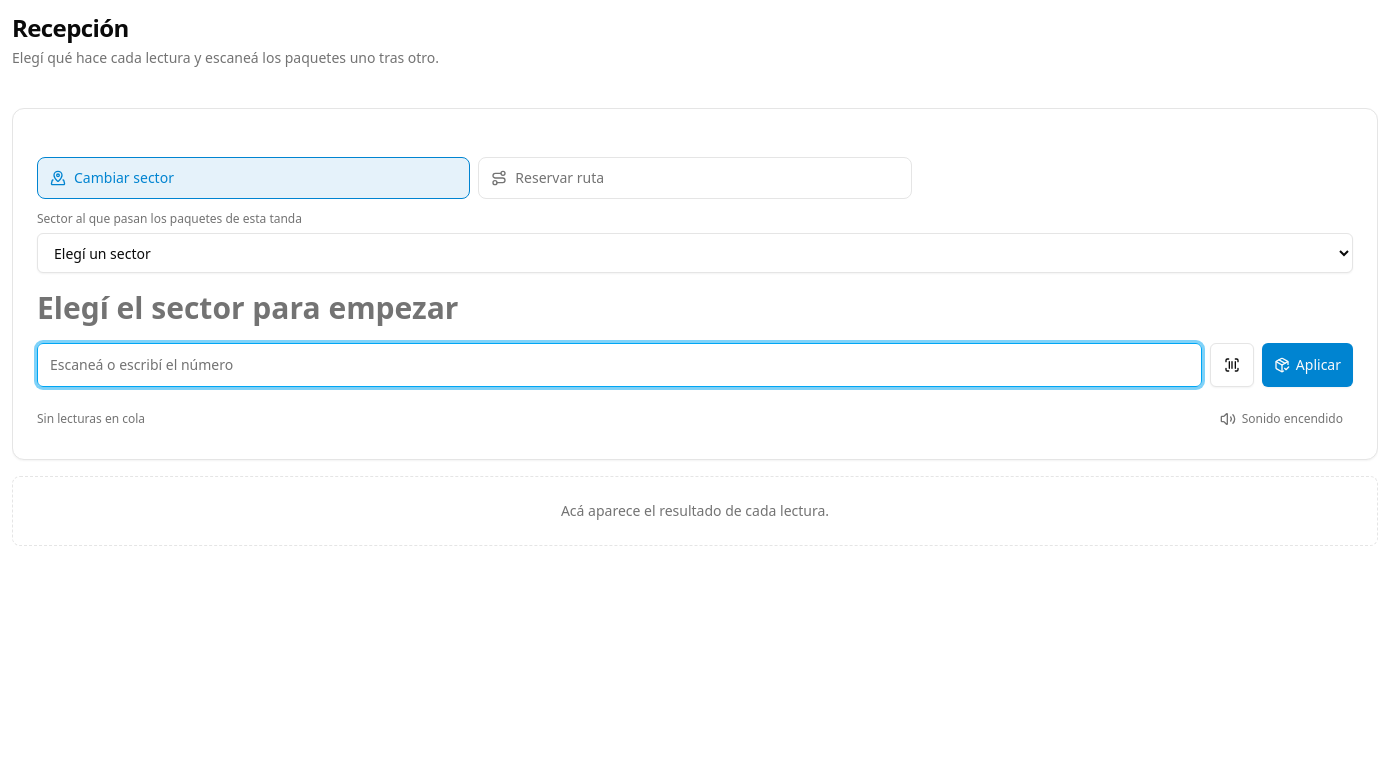
Scenario: Recepción — los tres modos: una llamada por lectura › quien no recibe (supervisor) manda la asignación sola
Select "Centro" in the dropdown labelled "Sector al que pasan los paquetes de esta tanda" at point(695, 253), box [37,233,1353,273]
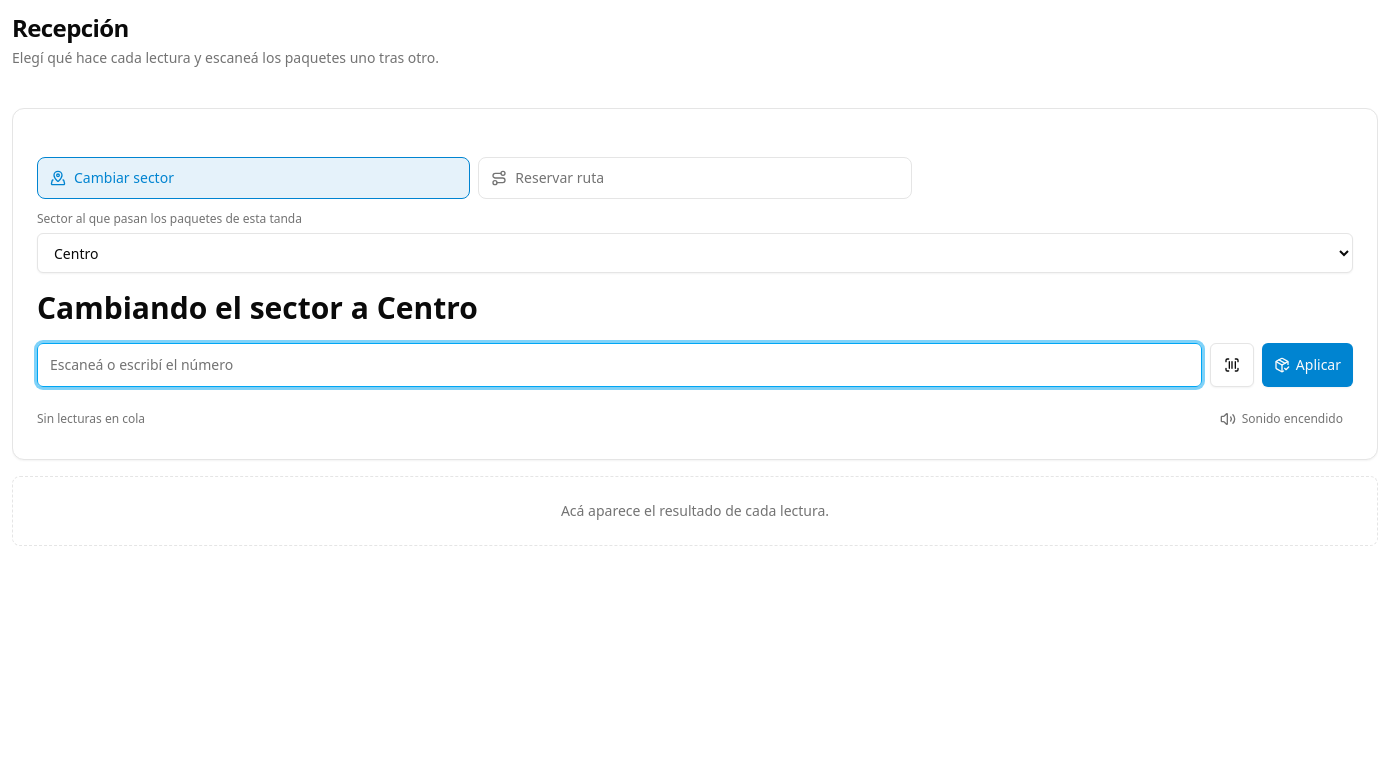
expect the text "Cambiando el sector a Centro" is shown: met, box [37,287,478,328]
Type "000000009-3" into the field named "Número, remito o código de barras del envío" at point(619, 364), box [37,342,1202,386]
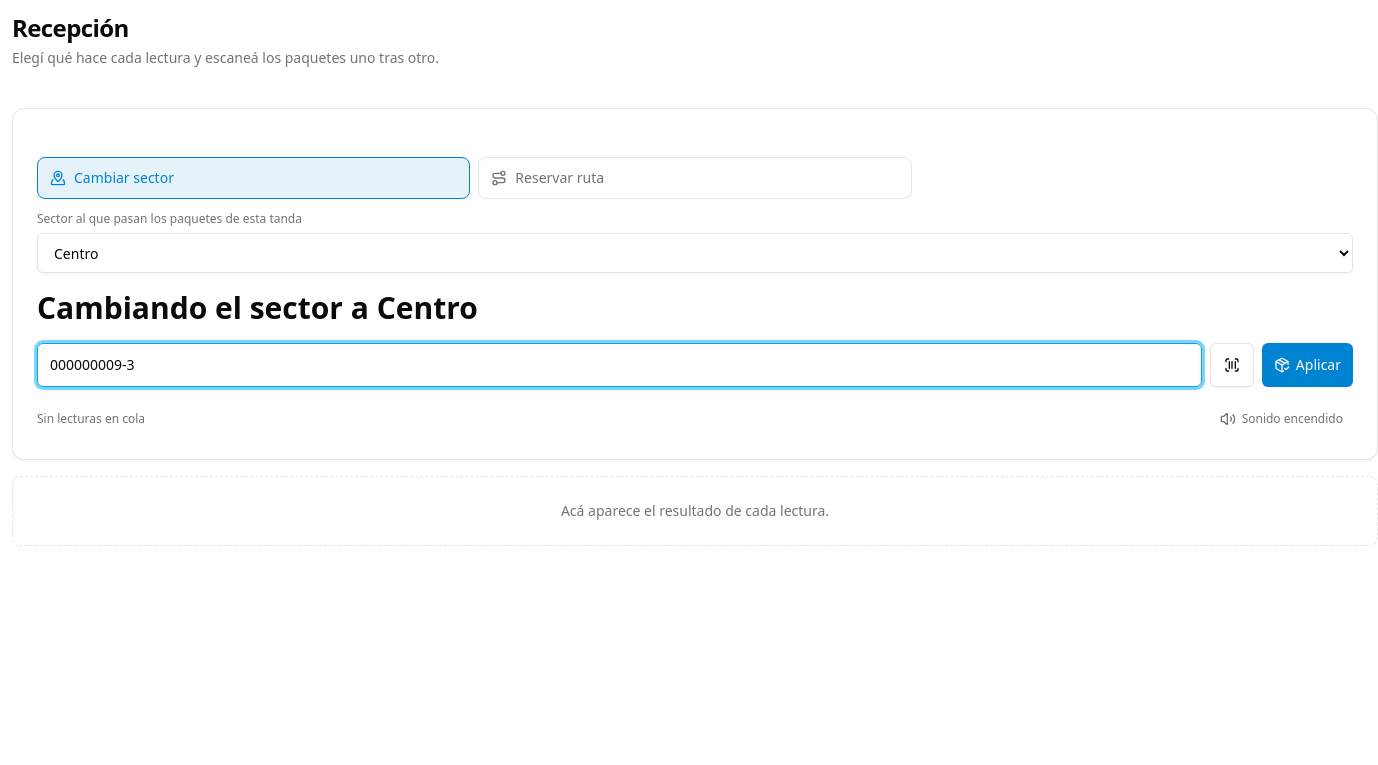
Press Enter in the field named "Número, remito o código de barras del envío", box [37,342,1202,386]
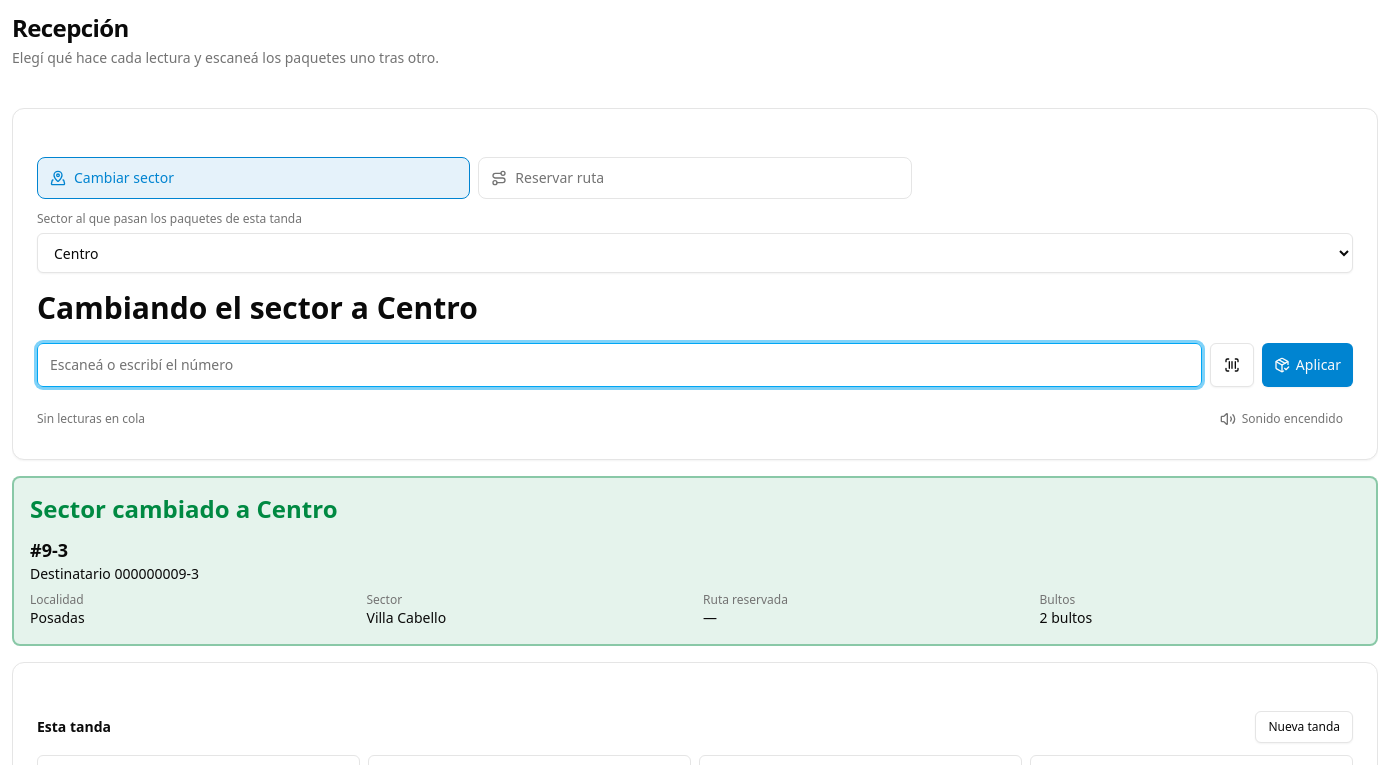
expect the message shows "Sector cambiado a Centro": met, box [30,492,338,524]
